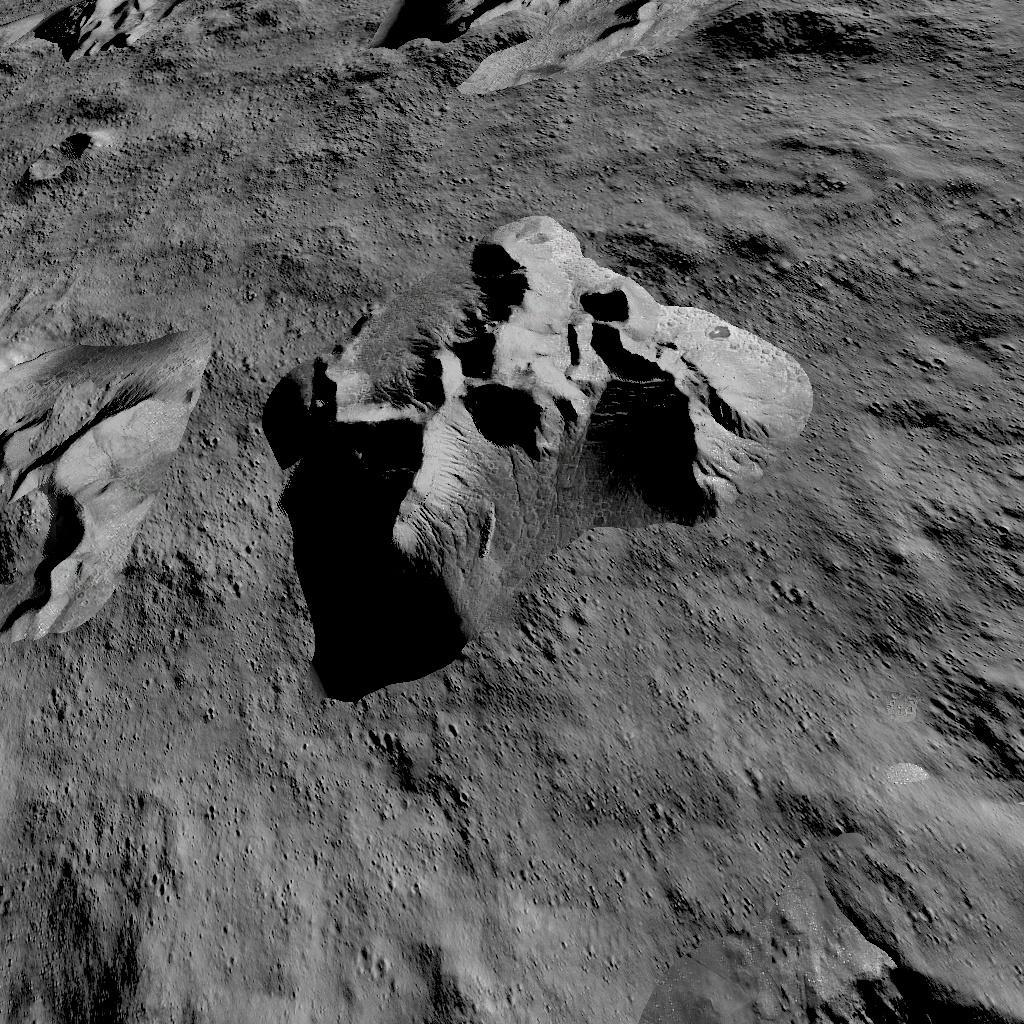Boulders: (269, 212, 817, 698), (3, 286, 206, 664), (364, 0, 694, 82), (709, 0, 1024, 53), (7, 0, 283, 53)
Crater: (733, 920, 1024, 1024), (937, 667, 1024, 794), (14, 106, 110, 189), (65, 1007, 139, 1024)
Plan surface: (236, 710, 714, 1024), (834, 226, 1020, 646), (2, 682, 220, 991), (398, 92, 1024, 194), (734, 712, 918, 893), (128, 72, 352, 189)
